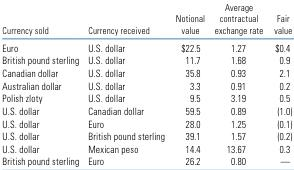table: (1, 1, 291, 167)
table column: (82, 1, 169, 167), (1, 1, 82, 167), (208, 1, 267, 167), (169, 1, 208, 167), (267, 1, 291, 167)
table column header: (1, 1, 291, 38)
table row: (1, 1, 291, 38), (1, 38, 291, 53), (1, 53, 291, 66), (1, 78, 291, 91), (1, 91, 291, 104), (1, 116, 291, 129), (1, 141, 291, 154), (1, 154, 291, 167), (1, 66, 291, 78), (1, 104, 291, 116), (1, 129, 291, 141)
